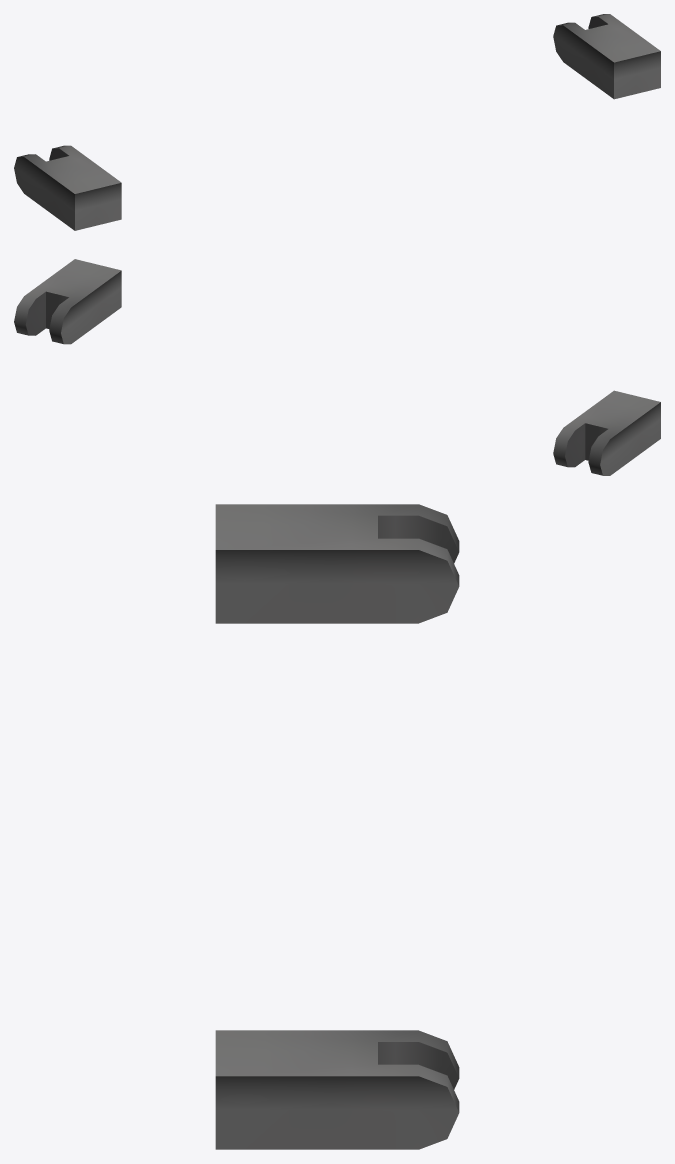
File: 4mv_solar_srf_1_base.obj
3 views of the same model, one above another, from view 1: azimuth 30°, elevation 25°; view 2: azimuth 150°, elevation 25°; view 3: azimuth 270°, elevation 25° (orthographic). The views are drawn at different scales.
Visible parts, largest first — view 1: base1; view 2: base1; view 3: base1.
Part boxes in pixels (x1=…): base1: x1=14, y1=14, x2=660, y2=230; base1: x1=14, y1=259, x2=660, y2=475; base1: x1=215, y1=504, x2=459, y2=1149.
Bounding box in the file's own units: 0.625 × 0.0375 × 0.1125.
